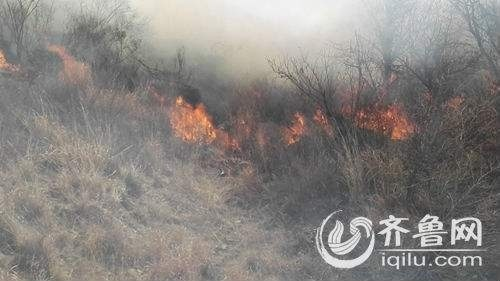fire: (160, 93, 241, 148), (343, 95, 422, 140), (278, 106, 329, 146), (49, 42, 88, 79)
